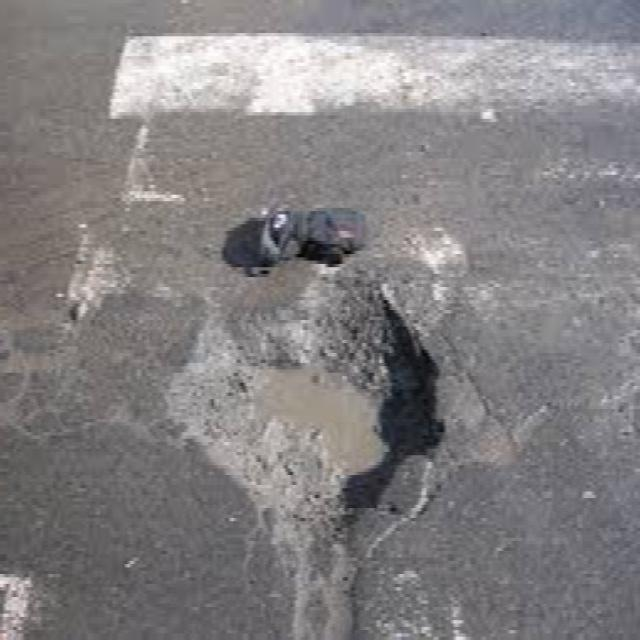Pothole: (175, 267, 449, 555), (279, 532, 361, 640)
